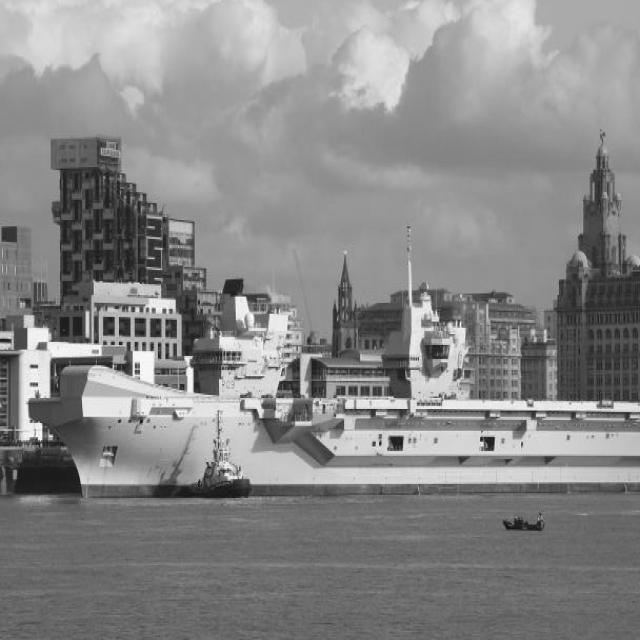Portanaves: (26, 213, 640, 513)
